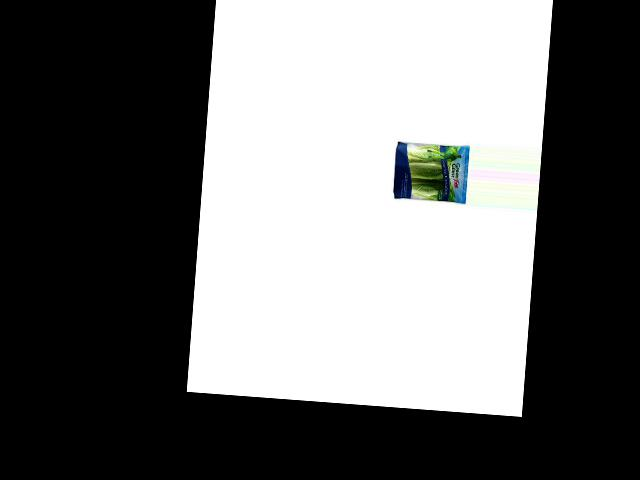lettuce: (389, 138, 466, 204)
